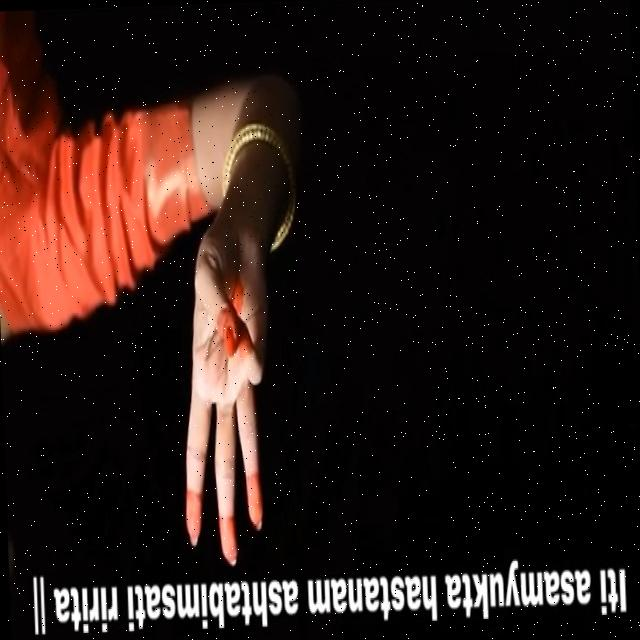Trishula: (150, 192, 298, 577)
bangle: (208, 116, 307, 247)
text: (23, 539, 640, 640)
